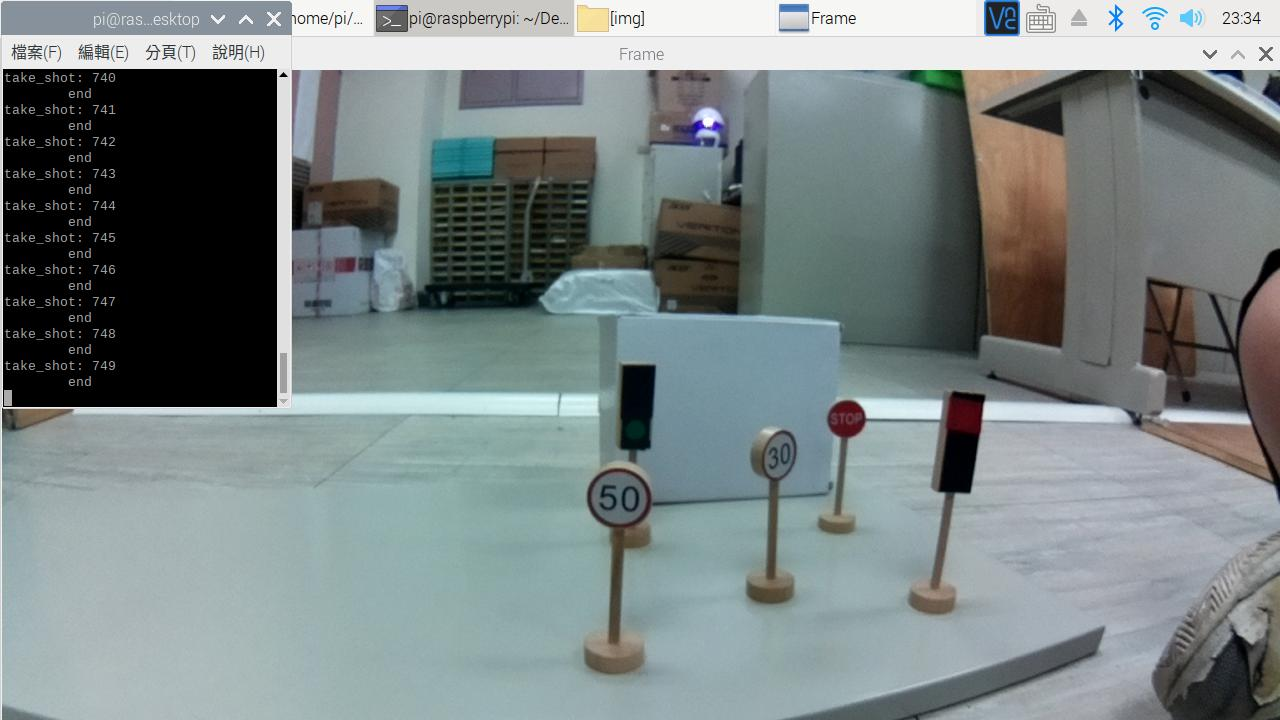Green: (605, 362, 664, 453)
Speed30: (746, 422, 803, 487)
Speed50: (576, 459, 661, 535)
Stop: (933, 375, 995, 500), (818, 399, 881, 452)
